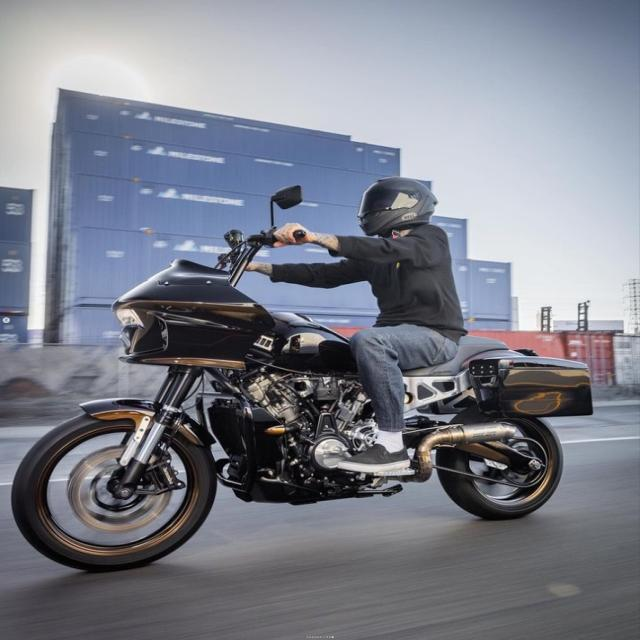helmet: (353, 174, 442, 238)
